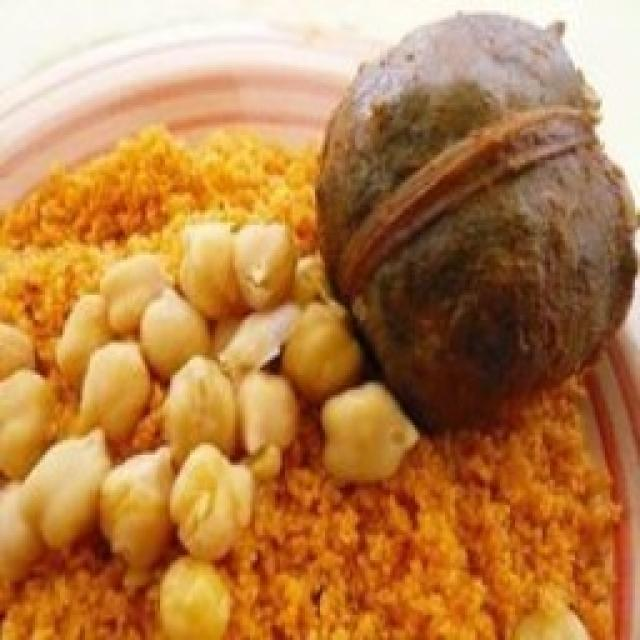Couscous: (0, 128, 618, 640)
